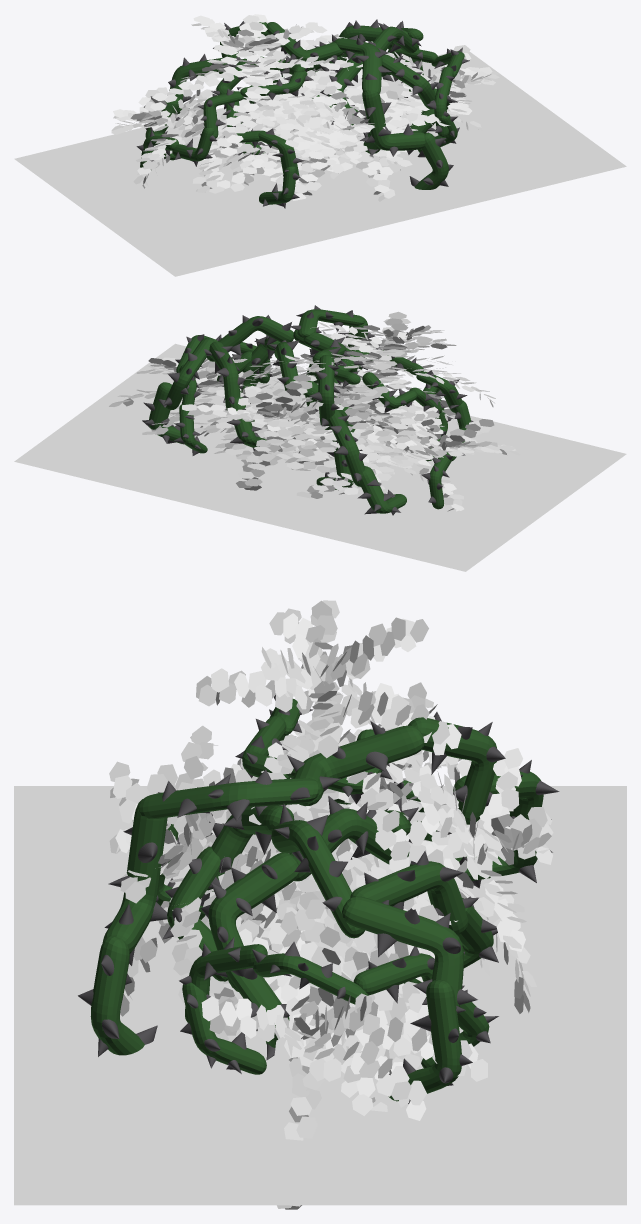
Rendered from ArbustoV2.fbx.
3 renders of one model, top to bottom at view 1: azimuth 30°, elevation 25°; view 2: azimuth 150°, elevation 25°; view 3: azimuth 270°, elevation 25°, orthographic. The views are drawn at different scales.
Parts seen in each view (by area): view 1: Chao, Folhas, Vinhas, Espinhos; view 2: Chao, Folhas, Vinhas, Espinhos; view 3: Chao, Folhas, Vinhas, Espinhos.
Boxes of the visible parts, x1=… form: Chao: x1=14, y1=51, x2=626, y2=276; Folhas: x1=111, y1=14, x2=499, y2=201; Vinhas: x1=140, y1=22, x2=464, y2=204; Espinhos: x1=136, y1=19, x2=469, y2=208; Chao: x1=14, y1=343, x2=626, y2=571; Folhas: x1=109, y1=311, x2=520, y2=511; Vinhas: x1=149, y1=309, x2=470, y2=513; Espinhos: x1=142, y1=305, x2=473, y2=515; Chao: x1=14, y1=786, x2=626, y2=1205; Folhas: x1=109, y1=600, x2=553, y2=1209; Vinhas: x1=90, y1=699, x2=543, y2=1101; Espinhos: x1=78, y1=695, x2=559, y2=1103.
Size of the model in its own units: 485 by 211 by 300.
